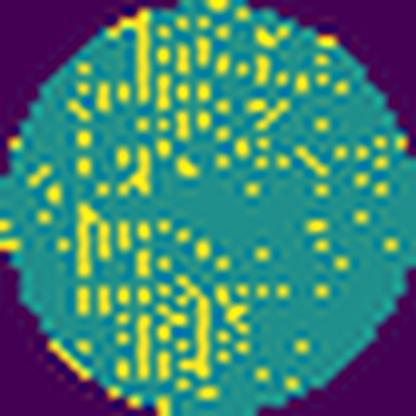Scratch: (172, 272, 216, 384), (106, 4, 153, 107), (174, 14, 197, 181), (134, 215, 150, 386), (77, 200, 108, 284), (116, 141, 154, 204)
